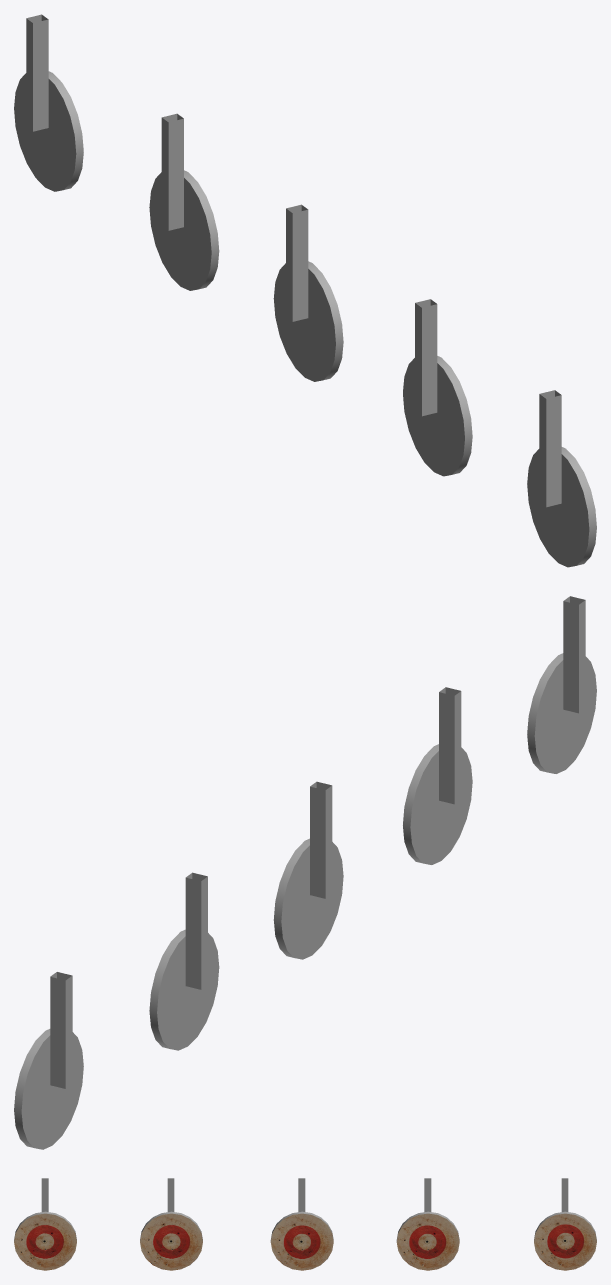
The model's file is Targetsbot.fbx.
The picture shows the model from 3 angles, top to bottom: view 1: azimuth 30°, elevation 25°; view 2: azimuth 150°, elevation 25°; view 3: azimuth 270°, elevation 25°; orthographic projection. The views are drawn at different scales.
Visible parts, largest first — view 1: Targetbot_T; view 2: Targetbot_T; view 3: Targetbot_T.
Boxes of the visible parts, bbox=[...] form: Targetbot_T: bbox=[14, 14, 596, 567]; Targetbot_T: bbox=[14, 596, 596, 1149]; Targetbot_T: bbox=[14, 1178, 596, 1270].
Size of the model in its own units: 0.1499 by 1.04 by 6.35.
